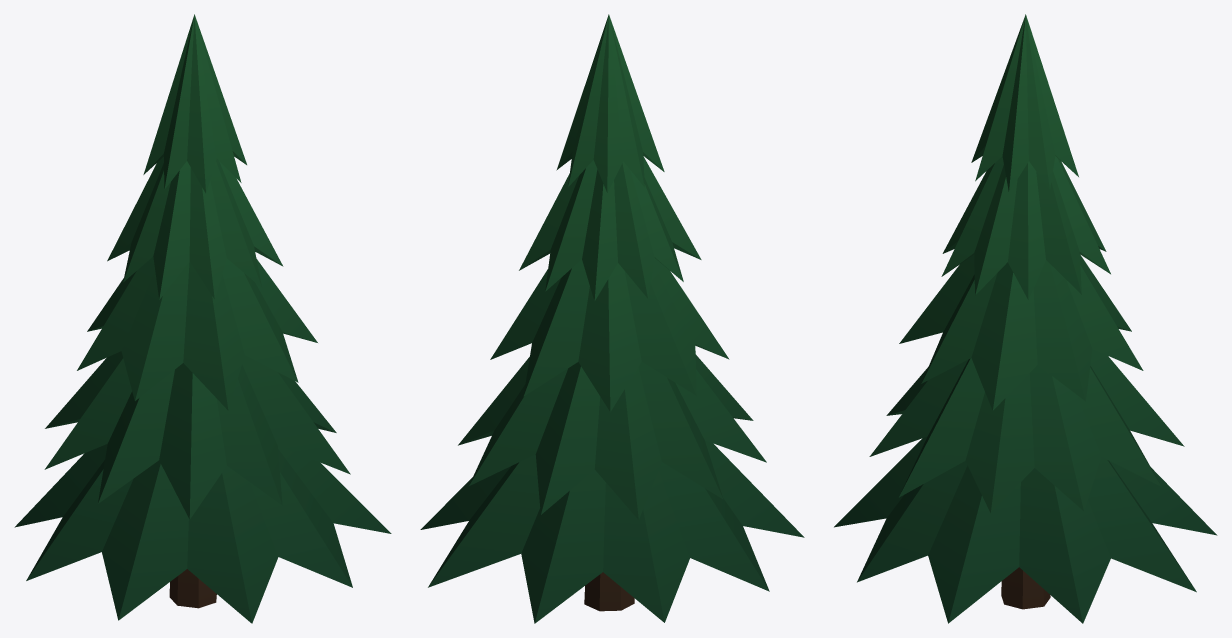
File: tree_pine_02.fbx
3 renders of one model, left to right at view 1: azimuth 30°, elevation 25°; view 2: azimuth 150°, elevation 25°; view 3: azimuth 270°, elevation 25°, orthographic.
Parts seen in each view (by area): view 1: tree_pine_02_LOD0; view 2: tree_pine_02_LOD0; view 3: tree_pine_02_LOD0.
Boxes of the visible parts, x1,y1,x2,y2 form: tree_pine_02_LOD0: (14,14,391,623); tree_pine_02_LOD0: (420,14,804,623); tree_pine_02_LOD0: (834,14,1217,623).
Size of what is drawn, in the model's own units: 3.18 by 5.49 by 3.27.
Materials: 1 (1 with a texture image).
